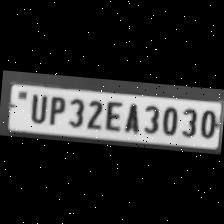0: (158, 101, 181, 135), (196, 106, 219, 139)
2: (83, 95, 105, 131)
3: (176, 103, 198, 138), (64, 94, 86, 128), (140, 100, 161, 134)
A: (120, 98, 142, 133)
E: (102, 97, 124, 131)
P: (44, 92, 66, 126)
U: (25, 90, 49, 124)
